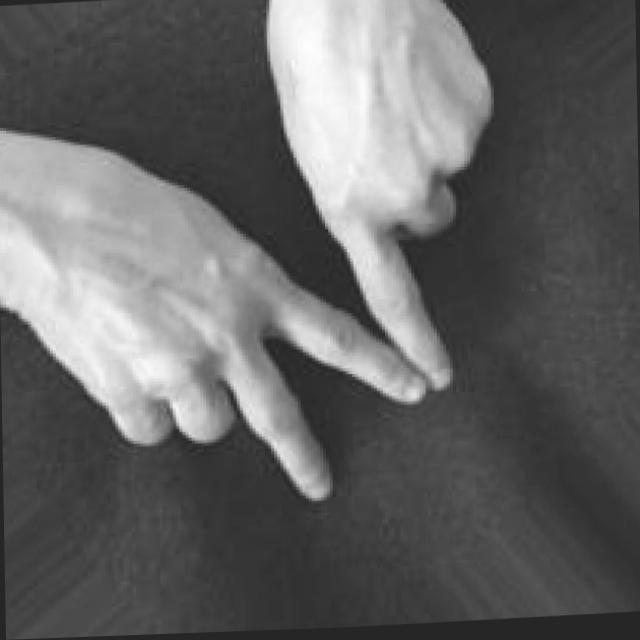N: (0, 0, 506, 517)
